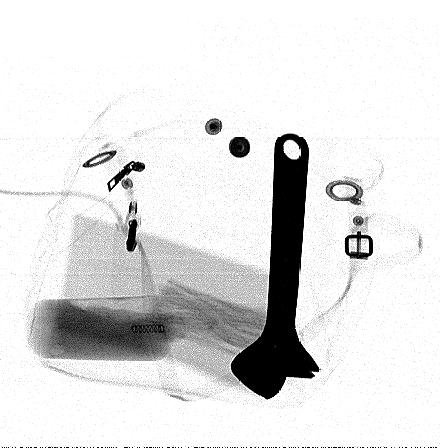Wrench: (229, 131, 322, 403)
